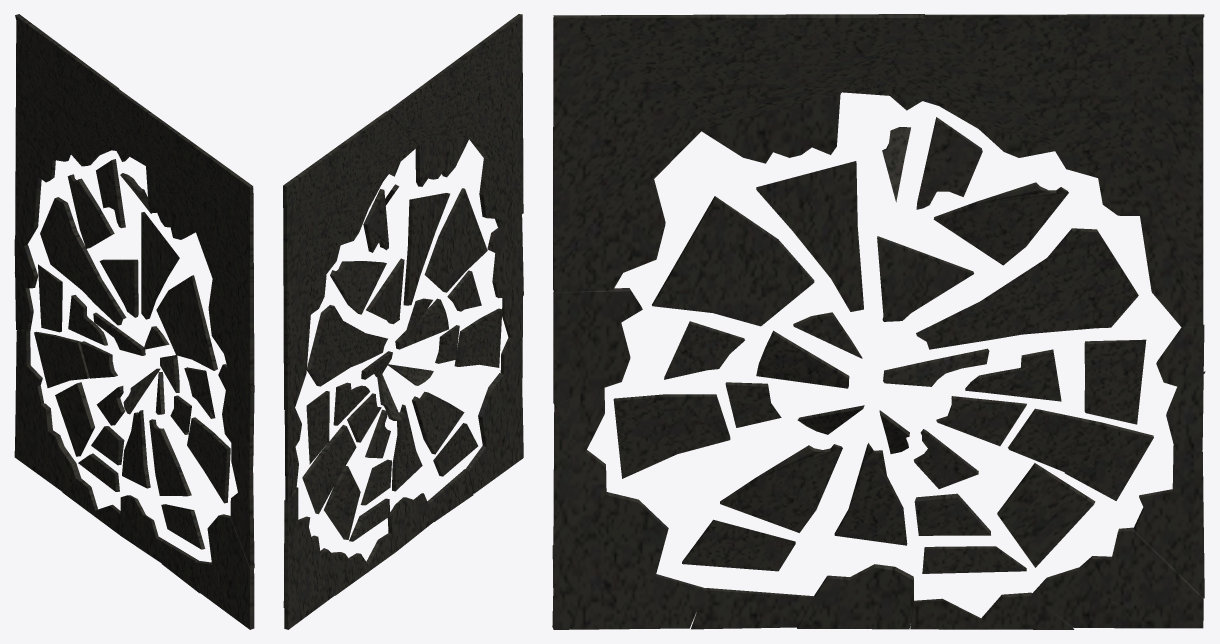
File: 01_01_window_breakable_broken.dae
3 renders of one model, left to right at view 1: azimuth 30°, elevation 25°; view 2: azimuth 150°, elevation 25°; view 3: azimuth 270°, elevation 25°, orthographic. The views are drawn at different scales.
Visible parts, largest first — view 1: broken_base, shard14, shard10, shard11, shard16, shard8, shard17, shard18, shard32, shard4, shard20, shard15 (+14 smaller); view 2: broken_base, shard14, shard10, shard11, shard16, shard8, shard17, shard32, shard18, shard4, shard20, shard15 (+14 smaller); view 3: broken_base, shard14, shard10, shard11, shard16, shard8, shard32, shard17, shard18, shard20, shard15, shard4 (+14 smaller).
Boxes of the visible parts, box(x1,y1,x2,y2) form: broken_base: box(14, 14, 254, 629); shard14: box(40, 197, 126, 325); shard10: box(156, 275, 217, 370); shard11: box(141, 212, 179, 319); shard16: box(34, 331, 89, 387); shard8: box(187, 417, 230, 503); shard17: box(149, 419, 191, 496); shard18: box(55, 382, 94, 456); shard32: box(67, 174, 114, 248); shard4: box(122, 410, 150, 488); shard20: box(99, 259, 138, 317); shard15: box(38, 264, 62, 332); broken_base: box(283, 14, 523, 629); shard14: box(307, 305, 387, 386); shard10: box(424, 188, 487, 292); shard11: box(403, 193, 449, 305); shard16: box(302, 425, 356, 514); shard8: box(454, 308, 502, 367); shard17: box(412, 391, 464, 454); shard32: box(330, 261, 386, 314); shard18: box(324, 466, 360, 539); shard4: box(392, 404, 422, 491); shard20: box(366, 258, 404, 324); shard15: box(306, 391, 329, 464); broken_base: box(552, 14, 1205, 629); shard14: box(916, 228, 1138, 349); shard10: box(652, 196, 814, 326); shard11: box(756, 161, 863, 311); shard16: box(1008, 408, 1153, 500); shard8: box(613, 394, 730, 478); shard32: box(933, 182, 1068, 265); shard17: box(720, 444, 842, 532); shard18: box(997, 463, 1095, 567); shard20: box(877, 236, 973, 321); shard15: box(1084, 339, 1146, 424); shard4: box(834, 443, 907, 545).
Bounding box in the file's own units: 0.159 × 2.2 × 2.13.
